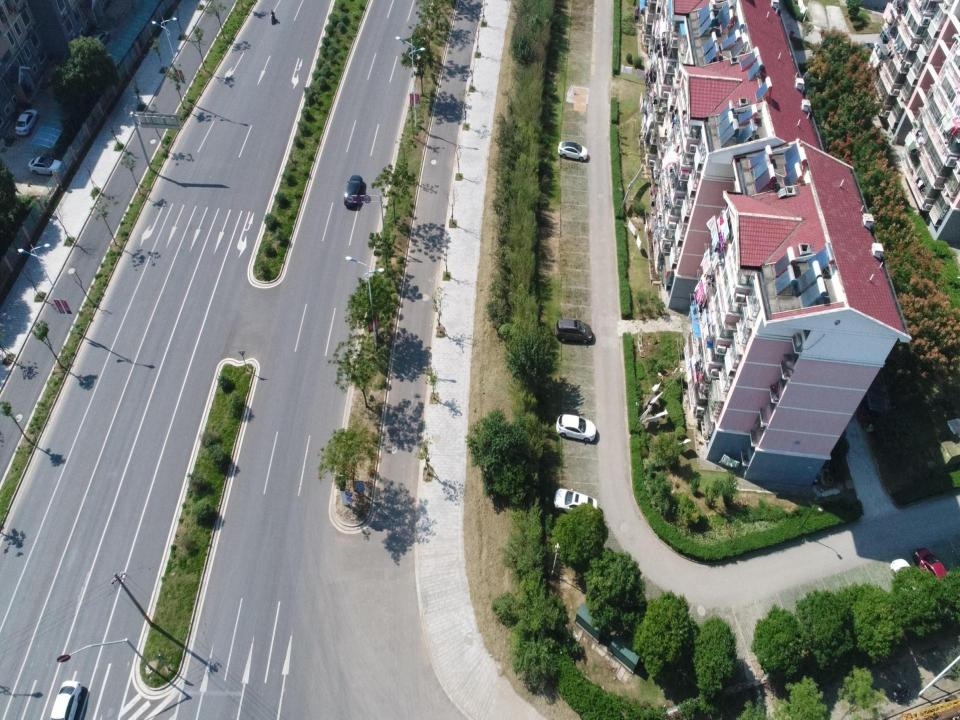car: (914, 546, 953, 599), (889, 556, 922, 603), (557, 411, 599, 447), (554, 486, 598, 518), (554, 316, 596, 348), (51, 681, 85, 718), (14, 105, 39, 139), (555, 138, 590, 162), (343, 174, 366, 209), (28, 153, 63, 175), (87, 28, 109, 46)
